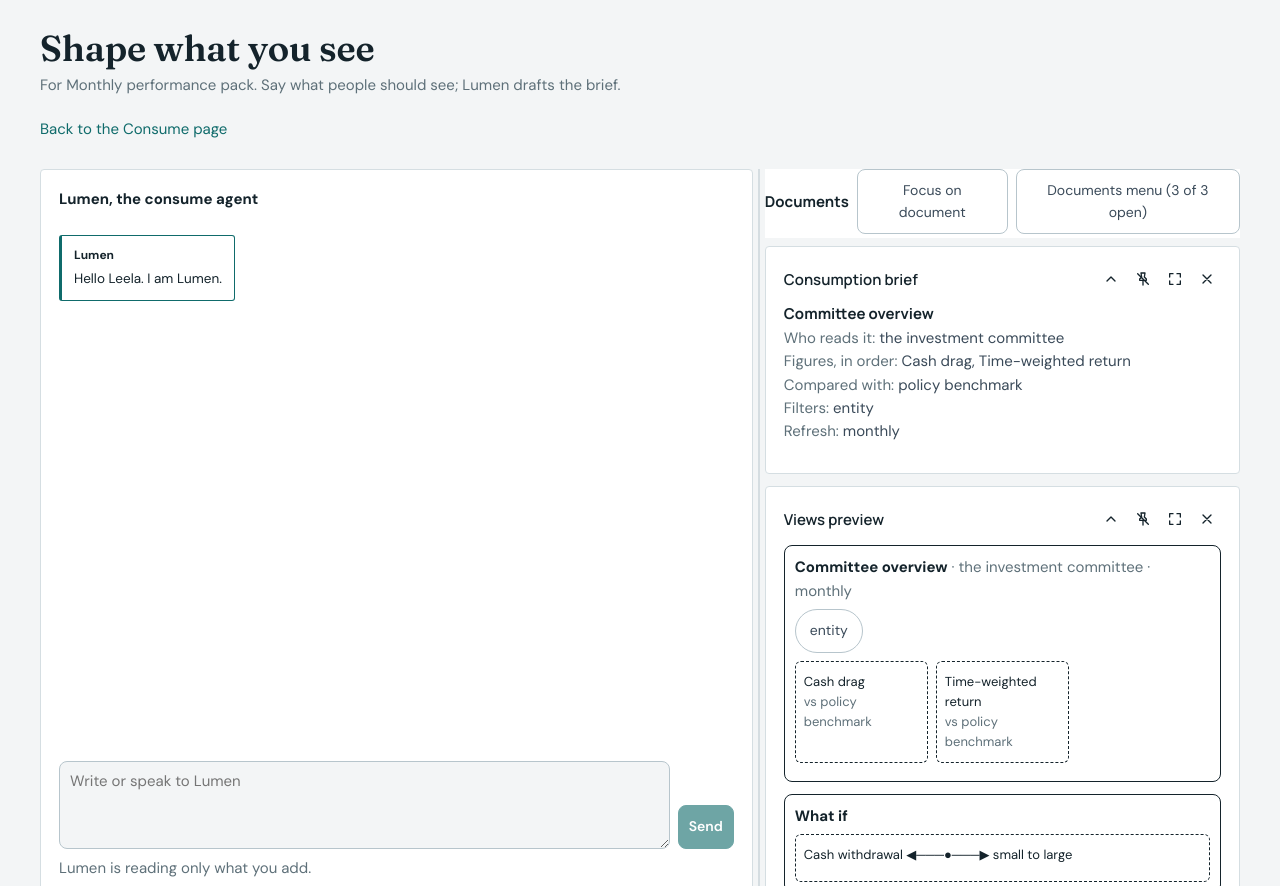
Test: greets, shows the brief by name and the sketch, and talks to Lumen
Expected: the text "Hello Leela. I am Lumen." is shown, [74, 269, 222, 290]
Expected: the text "Cash drag, Time-weighted return" is shown, [902, 351, 1131, 371]
Step 1. Type "Cash drag first" into the text box named "Your message" → [364, 805], box [59, 761, 670, 849]
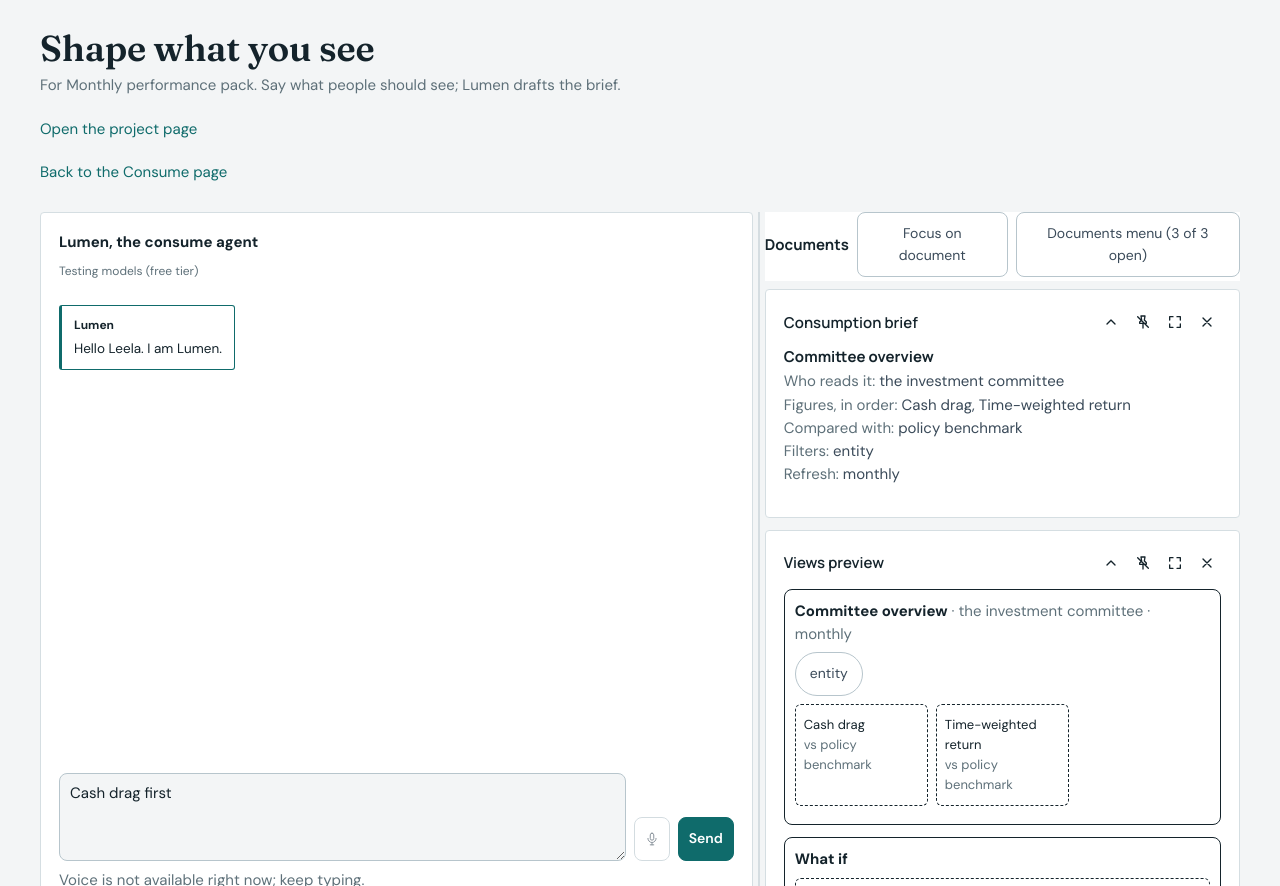
Step 2. Click the button "Send" → [706, 839], box [678, 817, 734, 861]
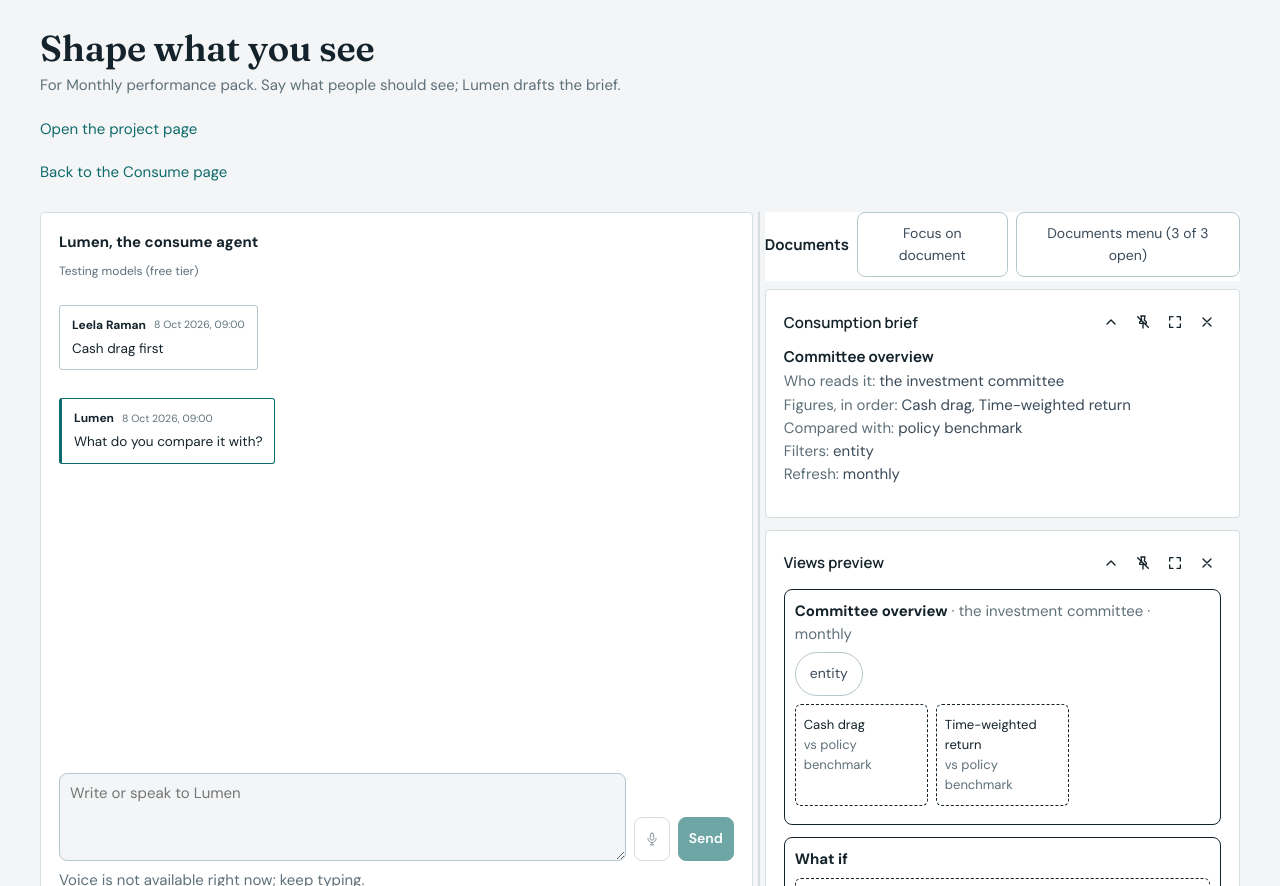
Expected: the text "What do you compare it with?" is shown, [74, 432, 262, 453]
